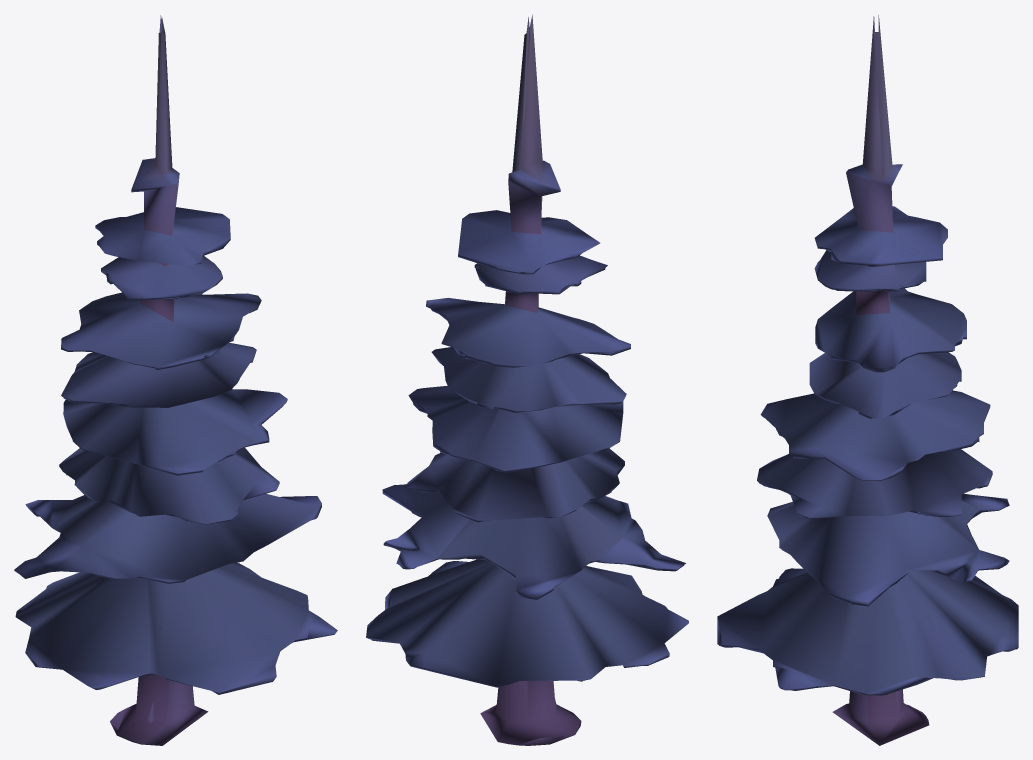
File: model.progressive.glb
The picture shows the model from 3 angles, left to right: view 1: azimuth 30°, elevation 25°; view 2: azimuth 150°, elevation 25°; view 3: azimuth 270°, elevation 25°; orthographic projection.
Visible parts, largest first — view 1: material; view 2: material; view 3: material.
Part boxes in pixels (x1,y1,x2,y2): material: (14, 15, 337, 745); material: (366, 14, 688, 745); material: (717, 15, 1018, 745).
Bounding box in the file's own units: 0.8377 × 1.9 × 0.7323.
1 material, 1 textured.
